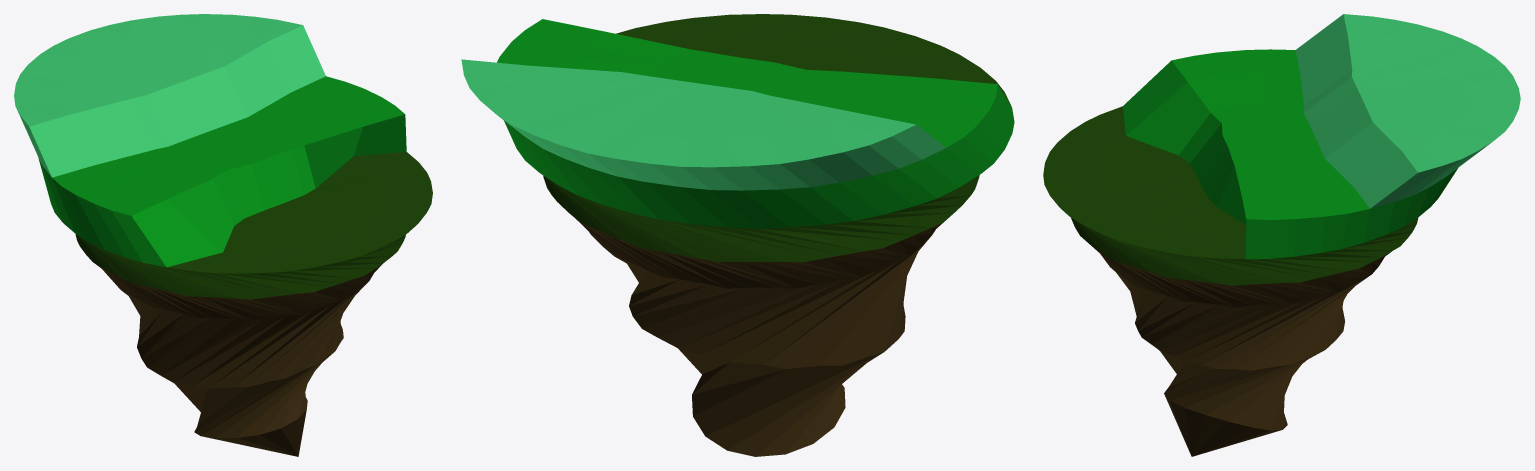
The model's file is FloatingIslandStairsColor.fbx.
3 views of the same model, side by side, from view 1: azimuth 30°, elevation 25°; view 2: azimuth 150°, elevation 25°; view 3: azimuth 270°, elevation 25° (orthographic). The views are drawn at different scales.
Visible parts, largest first — view 1: FloatngIslandStairs; view 2: FloatngIslandStairs; view 3: FloatngIslandStairs.
Part boxes in pixels (x1,y1,x2,y2): FloatngIslandStairs: [14, 14, 432, 456]; FloatngIslandStairs: [461, 14, 1014, 456]; FloatngIslandStairs: [1043, 14, 1520, 456].
Size of the model in its own units: 321 by 300 by 380.
